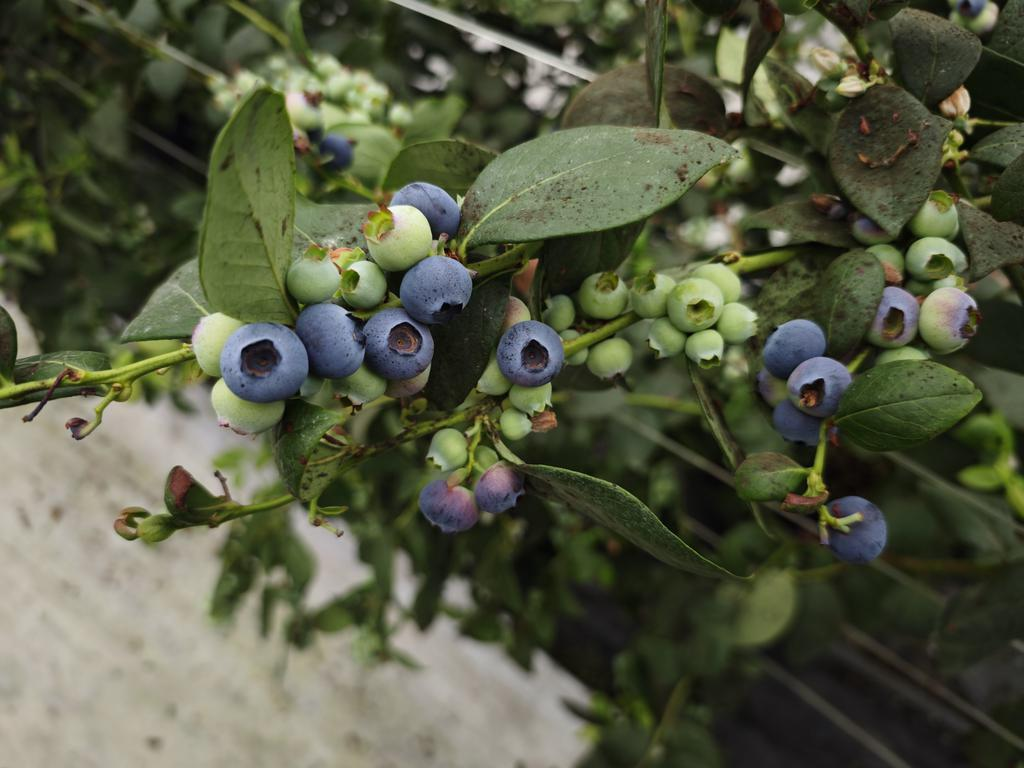RipeBlueBerry: (818, 483, 906, 580), (286, 296, 379, 387), (224, 319, 301, 398), (780, 358, 868, 424), (469, 458, 543, 532), (504, 320, 564, 393)
Semi-RipeBlueBerry: (422, 483, 483, 529)
UnripeBlueBerry: (396, 247, 492, 322), (359, 200, 433, 269), (570, 262, 633, 324), (671, 277, 723, 336), (907, 231, 967, 281)
